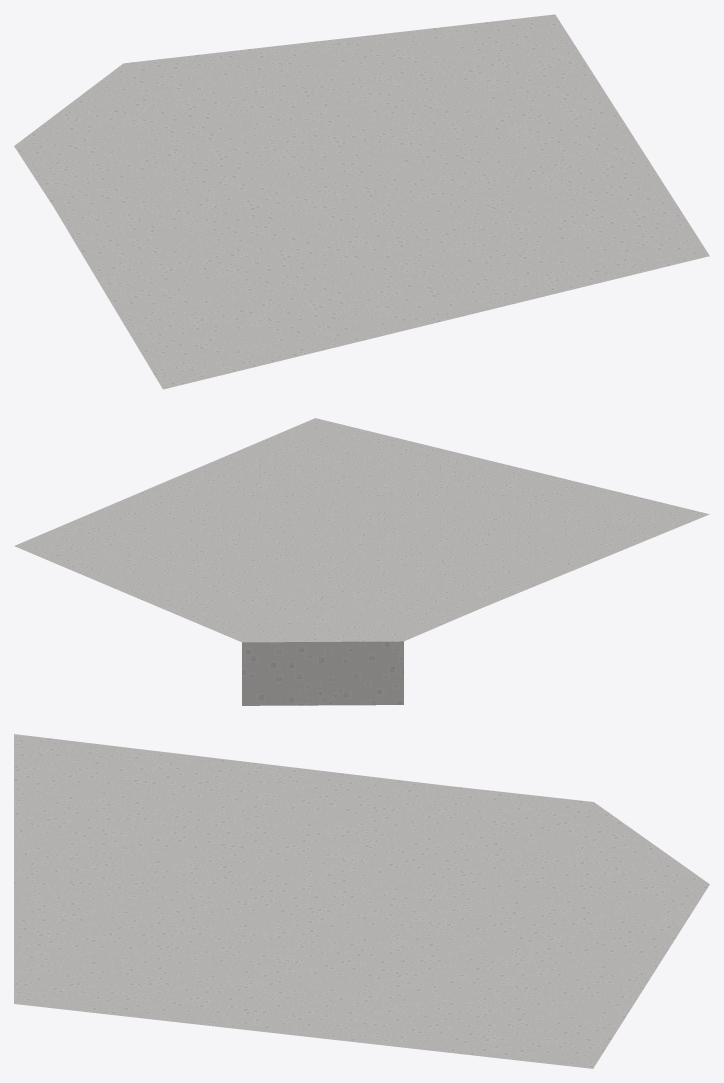
File: kd_stage_1364a3_4_0_bounded.glb
3 renders of one model, top to bottom at view 1: azimuth 30°, elevation 25°; view 2: azimuth 150°, elevation 25°; view 3: azimuth 270°, elevation 25°, orthographic. The views are drawn at different scales.
Parts seen in each view (by area): view 1: kd_stage_1364a3_4_0_bounded; view 2: kd_stage_1364a3_4_0_bounded; view 3: kd_stage_1364a3_4_0_bounded.
Part boxes in pixels (left/top/right/bottom): kd_stage_1364a3_4_0_bounded: left=14, top=14, right=709, bottom=389; kd_stage_1364a3_4_0_bounded: left=14, top=418, right=709, bottom=705; kd_stage_1364a3_4_0_bounded: left=14, top=734, right=709, bottom=1068.
Size of the model in its own units: 19.02 by 2.36 by 16.71.
Materials: 1 (1 with a texture image).
